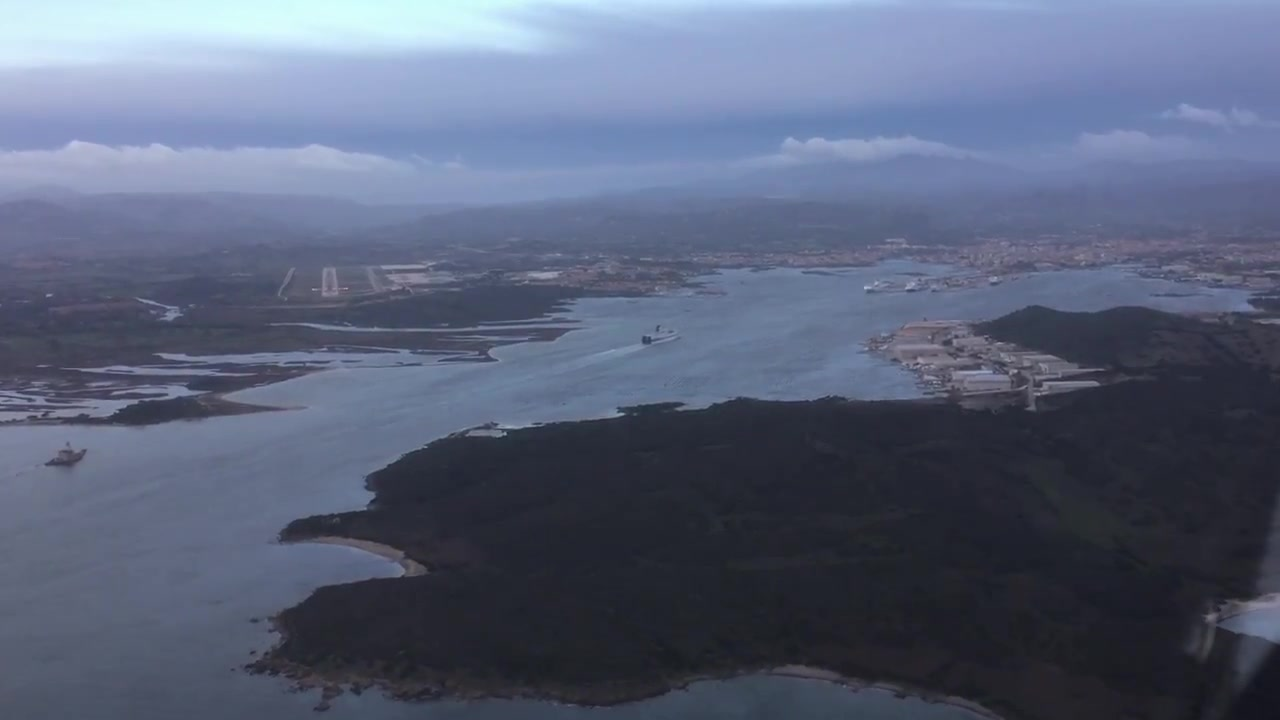runway: (320, 266, 340, 298)
